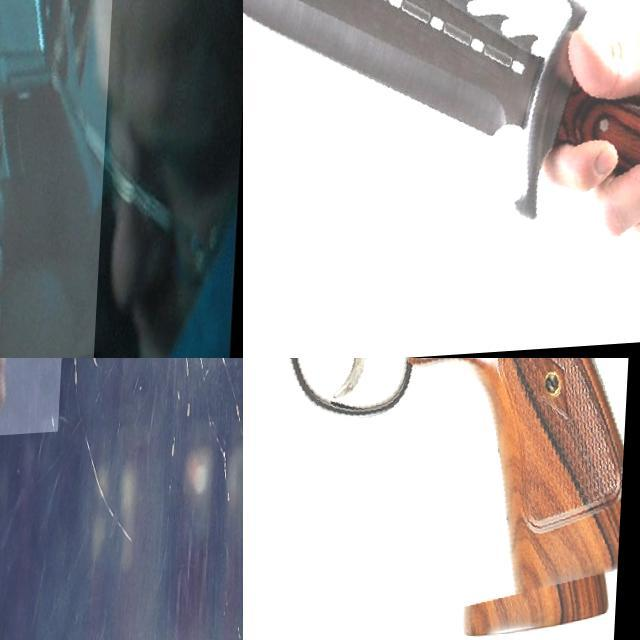-: (243, 0, 640, 358)
gun-knife-thesis - v11 Yolov5 augmented: (243, 358, 640, 640), (0, 0, 117, 358), (0, 358, 73, 506)
